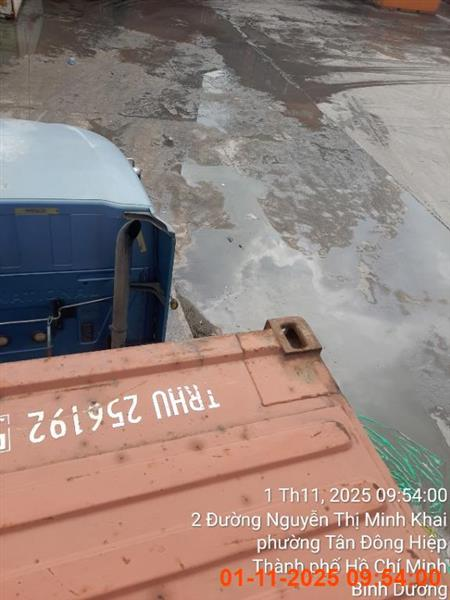broken: (1, 114, 449, 598), (0, 115, 176, 361)
